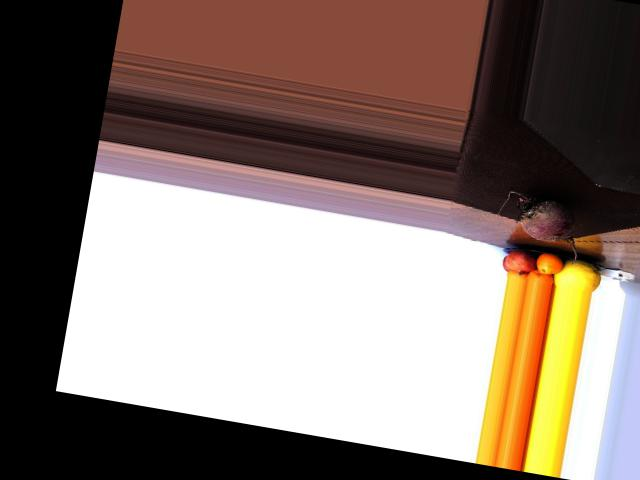beet: (491, 188, 587, 266)
